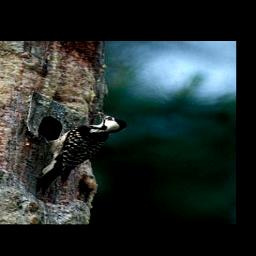Woodpecker: (38, 110, 128, 196)
